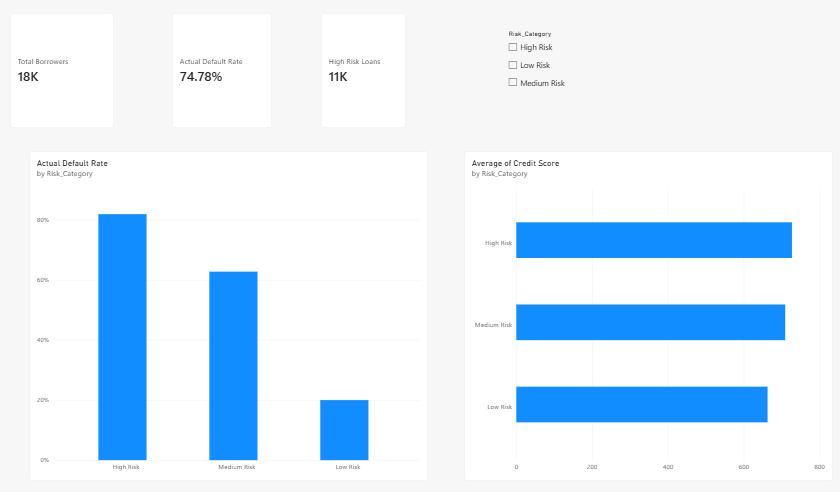

The dashboard page shown, as its layout file describes it:
{"tool":"powerbi","page":{"name":"Page 1","canvas":[1920,1080],"ordinal":0},"visuals":[{"type":"cardVisual","fields":{"Data":["loan_predictions_master.Total Borrowers"]},"box":[28.1,38.9,224.6,248.4],"z":0},{"type":"cardVisual","fields":{"Data":["loan_predictions_master.Actual Default Rate"]},"box":[378,38.9,216,248.4],"z":1},{"type":"cardVisual","fields":{"Data":["loan_predictions_master.High Risk Loans"]},"box":[699.8,38.9,183.6,248.4],"z":2},{"type":"clusteredColumnChart","fields":{"Category":["loan_predictions_master.Risk_Category"],"Y":["loan_predictions_master.Actual Default Rate"]},"box":[69.1,337,861.8,712.8],"z":4},{"type":"clusteredBarChart","fields":{"Category":["loan_predictions_master.Risk_Category"],"Y":["Avg(loan_predictions_master.Credit Score)"]},"box":[1008.7,337,797,712.8],"z":6},{"type":"slicer","fields":{"Values":["loan_predictions_master.Risk_Category"]},"box":[1097.3,75.6,224.6,159.8],"z":7}]}

Visuals, with their boxes on the page's 1920x1080 design canvas (x1, y1, x2, y2). These are canvas units, not pixel positions in the 840x492 screenshot, which may show the page scaled, cropped or inside an application window:
cardVisual - loan_predictions_master.Total Borrowers: x1=28, y1=39, x2=253, y2=287
cardVisual - loan_predictions_master.Actual Default Rate: x1=378, y1=39, x2=594, y2=287
cardVisual - loan_predictions_master.High Risk Loans: x1=700, y1=39, x2=883, y2=287
clusteredColumnChart - loan_predictions_master.Risk_Category x loan_predictions_master.Actual Default Rate: x1=69, y1=337, x2=931, y2=1050
clusteredBarChart - loan_predictions_master.Risk_Category x Avg(loan_predictions_master.Credit Score): x1=1009, y1=337, x2=1806, y2=1050
slicer - loan_predictions_master.Risk_Category: x1=1097, y1=76, x2=1322, y2=235
